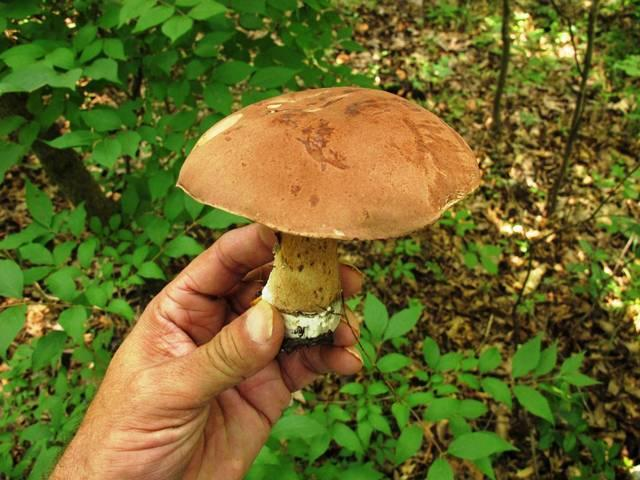Non-edible Mushroom: (174, 84, 483, 351)
